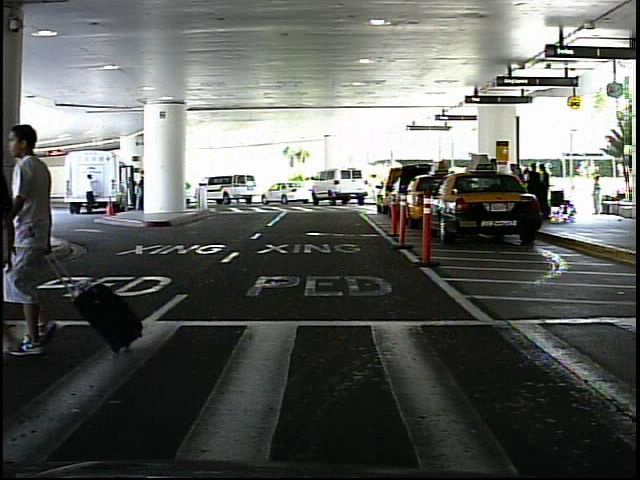person: (13, 112, 79, 359), (588, 172, 607, 218), (83, 172, 100, 214), (368, 168, 381, 203)
